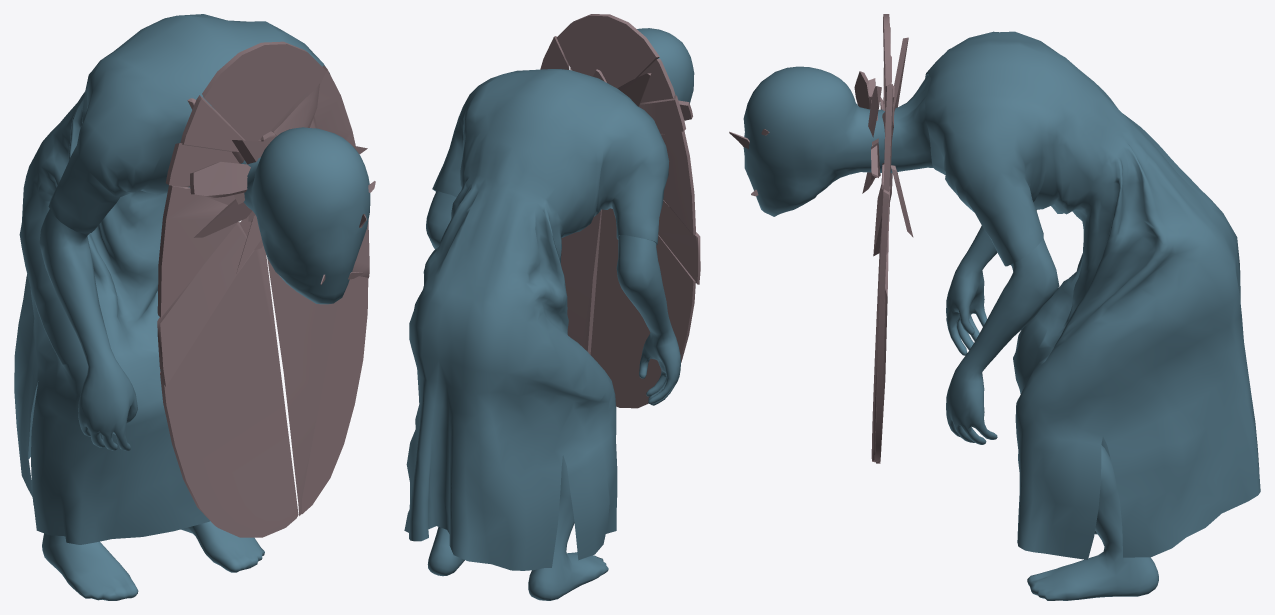
File: M_0003_Butter.fbx
3 views of the same model, side by side, from view 1: azimuth 30°, elevation 25°; view 2: azimuth 150°, elevation 25°; view 3: azimuth 270°, elevation 25° (orthographic). The views are drawn at different scales.
Visible parts, largest first — view 1: Upperbody_Low, mirror_Combed_Tried_Low, Lowerbody_Low, Mirror_Shattered_Tried_Low; view 2: Upperbody_Low, mirror_Combed_Tried_Low, Lowerbody_Low, Mirror_Shattered_Tried_Low; view 3: Upperbody_Low, Lowerbody_Low, mirror_Combed_Tried_Low, Mirror_Shattered_Tried_Low.
Part boxes in pixels (box(x1,y1,x2,y2)): Upperbody_Low: box(14, 14, 370, 544); mirror_Combed_Tried_Low: box(157, 41, 369, 537); Lowerbody_Low: box(42, 521, 264, 600); Mirror_Shattered_Tried_Low: box(187, 83, 367, 274); Upperbody_Low: box(404, 28, 694, 570); mirror_Combed_Tried_Low: box(540, 14, 700, 408); Lowerbody_Low: box(427, 455, 608, 600); Mirror_Shattered_Tried_Low: box(593, 69, 692, 120); Upperbody_Low: box(743, 31, 1260, 559); Lowerbody_Low: box(1027, 436, 1158, 600); mirror_Combed_Tried_Low: box(871, 14, 894, 463); Mirror_Shattered_Tried_Low: box(854, 37, 913, 237).
Bounding box in the file's own units: 91.1 × 188 × 166.
